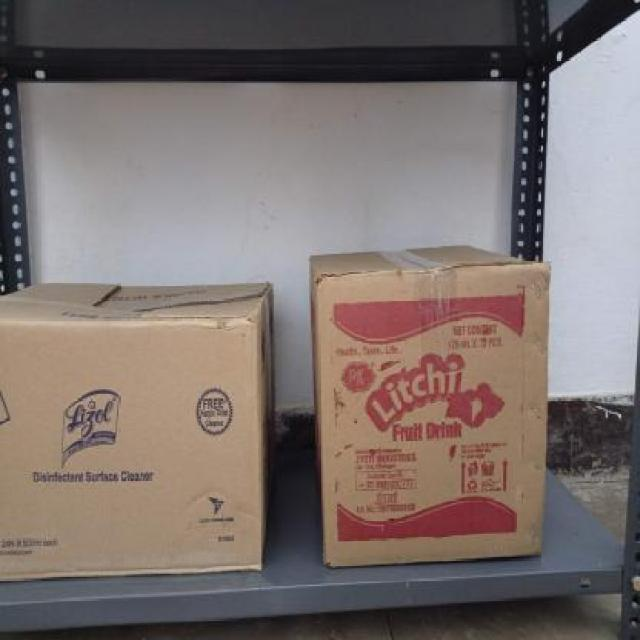box: (310, 269, 550, 562), (0, 316, 258, 580)
